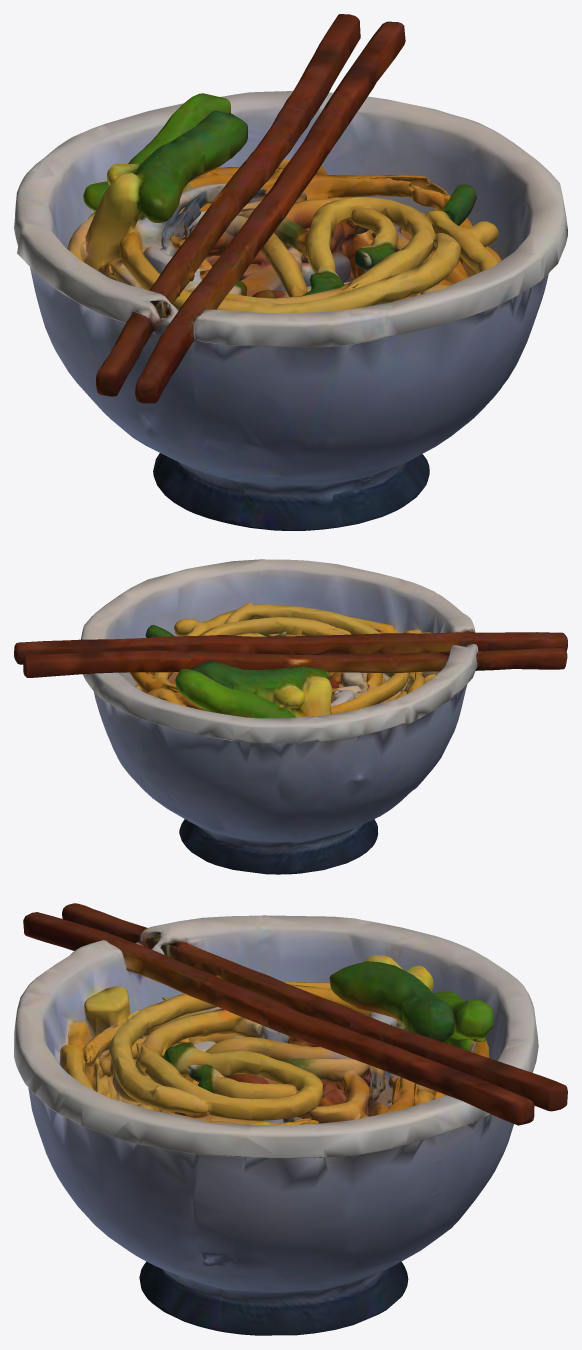
Rendered from luosifen-web.glb.
3 renders of one model, top to bottom at view 1: azimuth 30°, elevation 25°; view 2: azimuth 150°, elevation 25°; view 3: azimuth 270°, elevation 25°, orthographic. The views are drawn at different scales.
Parts seen in each view (by area): view 1: tripo_node_ca5995a1-9e1d-497f-bfb6-accfd97be7bc; view 2: tripo_node_ca5995a1-9e1d-497f-bfb6-accfd97be7bc; view 3: tripo_node_ca5995a1-9e1d-497f-bfb6-accfd97be7bc.
Boxes of the visible parts, x1,y1,x2,y2 form: tripo_node_ca5995a1-9e1d-497f-bfb6-accfd97be7bc: [14, 14, 567, 530]; tripo_node_ca5995a1-9e1d-497f-bfb6-accfd97be7bc: [14, 559, 567, 874]; tripo_node_ca5995a1-9e1d-497f-bfb6-accfd97be7bc: [14, 903, 567, 1335].
Bounding box in the file's own units: 1 × 0.5362 × 0.9251.
Materials: 1 (1 with a texture image).
